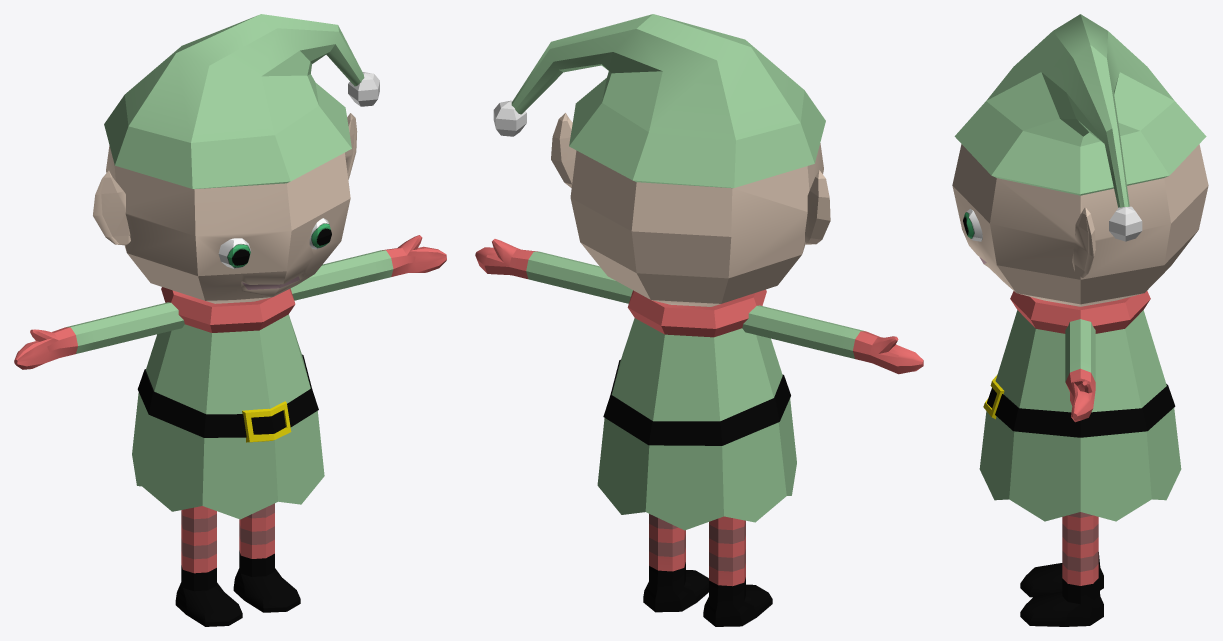
The model's file is Elf.fbx.
3 renders of one model, left to right at view 1: azimuth 30°, elevation 25°; view 2: azimuth 150°, elevation 25°; view 3: azimuth 270°, elevation 25°, orthographic. The views are drawn at different scales.
Visible parts, largest first — view 1: polySurface6; view 2: polySurface6; view 3: polySurface6.
Part boxes in pixels (<box>): polySurface6: <box>14,14,446,626</box>; polySurface6: <box>475,14,923,626</box>; polySurface6: <box>952,14,1208,626</box>.
Bounding box in the file's own units: 4 × 5.05 × 2.03.
